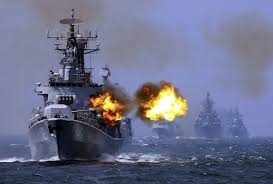tau_muctieu: (29, 28, 141, 163), (193, 101, 224, 138), (152, 101, 179, 140)
